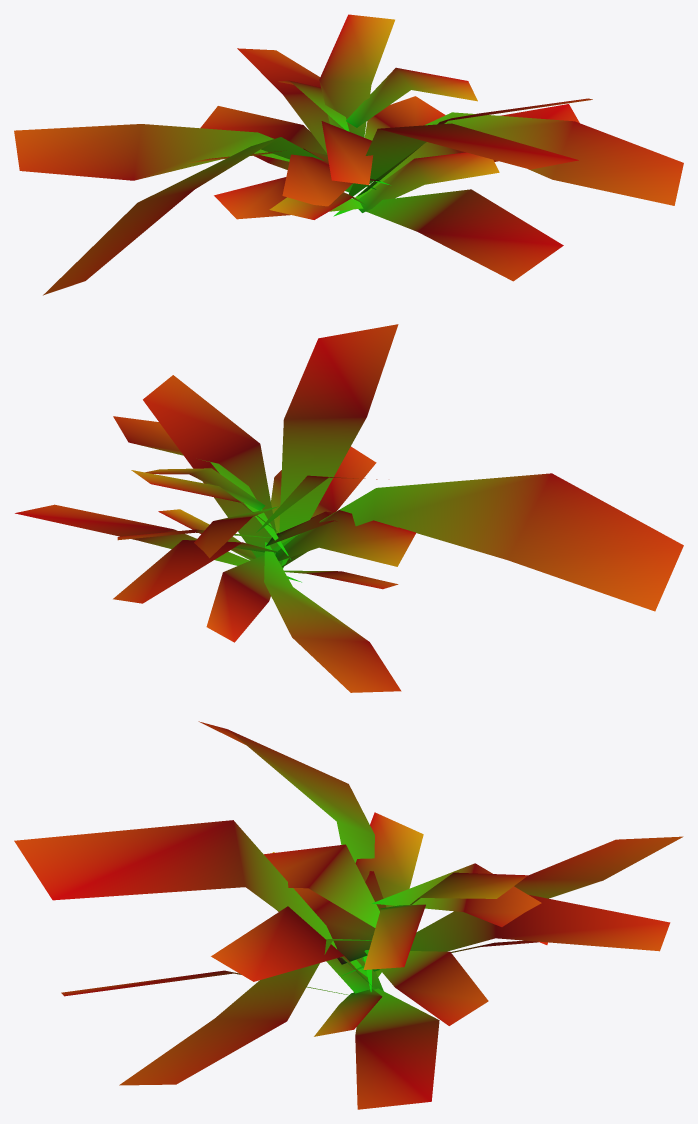
Rendered from Cape Weed_LOD3_Var6_tjmhfcyia.fbx.
3 renders of one model, top to bottom at view 1: azimuth 30°, elevation 25°; view 2: azimuth 150°, elevation 25°; view 3: azimuth 270°, elevation 25°, orthographic. The views are drawn at different scales.
Parts seen in each view (by area): view 1: _a647_Var6_LOD3; view 2: _a647_Var6_LOD3; view 3: _a647_Var6_LOD3.
Boxes of the visible parts, x1,y1,x2,y2 form: _a647_Var6_LOD3: (14,14,683,295); _a647_Var6_LOD3: (15,324,683,692); _a647_Var6_LOD3: (14,721,683,1109).
Size of the model in its own units: 17.78 by 4.24 by 14.6.
